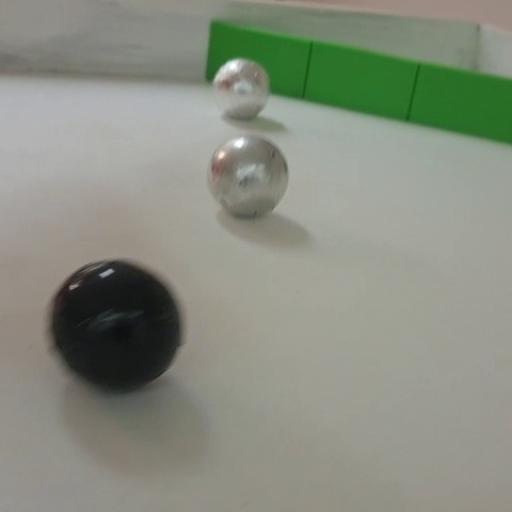alive: (208, 136, 290, 220), (211, 55, 272, 121)
dead: (48, 257, 182, 390)
